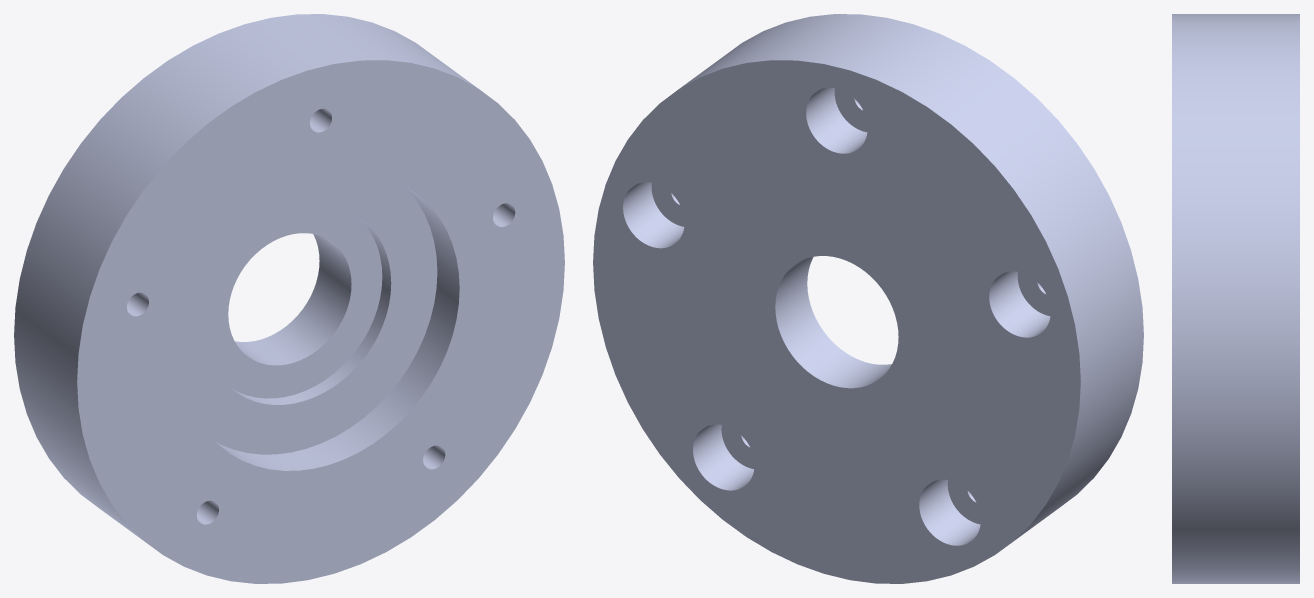
The model's file is _2025_Drivetrain_Wheel_Hub_Cap_R2.obj.
3 views of the same model, side by side, from view 1: azimuth 30°, elevation 25°; view 2: azimuth 150°, elevation 25°; view 3: azimuth 270°, elevation 25° (orthographic).
Visible parts, largest first — view 1: mesh16367, mesh16352, mesh16356, mesh16354, mesh16357, mesh16353, mesh16355; view 2: mesh16351, mesh16352, mesh16353, mesh16370, mesh16364, mesh16350, mesh16361, mesh16358, mesh16349, mesh16365, mesh16359, mesh16362 (+1 smaller); view 3: mesh16352.
Part boxes in pixels (<box>): mesh16367: <box>77,60,564,583</box>; mesh16352: <box>14,14,476,549</box>; mesh16356: <box>182,173,437,454</box>; mesh16354: <box>206,206,382,398</box>; mesh16357: <box>216,186,459,470</box>; mesh16353: <box>235,234,351,365</box>; mesh16355: <box>232,217,391,404</box>; mesh16351: <box>593,60,1080,583</box>; mesh16352: <box>681,14,1143,549</box>; mesh16353: <box>775,257,891,388</box>; mesh16370: <box>919,479,980,545</box>; mesh16364: <box>693,424,754,490</box>; mesh16350: <box>989,271,1050,337</box>; mesh16361: <box>623,182,684,248</box>; mesh16358: <box>806,87,867,153</box>; mesh16349: <box>1017,272,1050,316</box>; mesh16365: <box>721,425,754,468</box>; mesh16359: <box>834,88,867,132</box>; mesh16362: <box>651,182,684,226</box>; mesh16352: <box>1172,14,1299,583</box>.
Size of the model in its own units: 0.0503 by 0.0502 by 0.0113.
